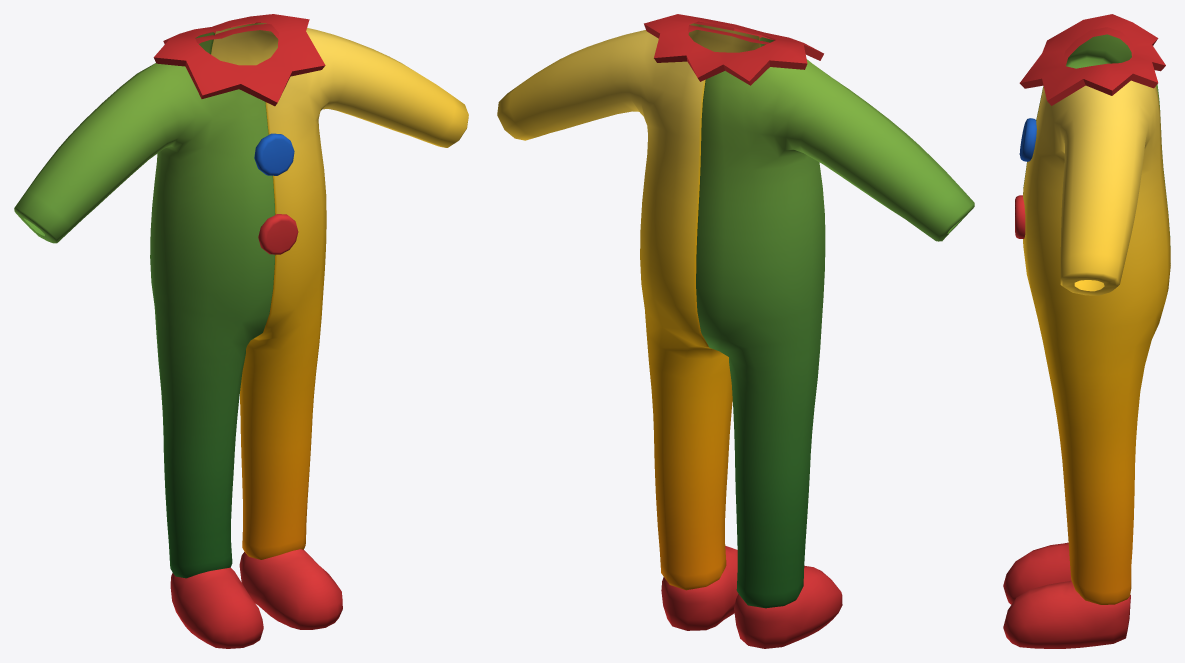
3 views of the same model, side by side, from view 1: azimuth 30°, elevation 25°; view 2: azimuth 150°, elevation 25°; view 3: azimuth 270°, elevation 25° (orthographic). The views are drawn at different scales.
Parts seen in each view (by area): view 1: Costume_10_001; view 2: Costume_10_001; view 3: Costume_10_001.
Boxes of the visible parts, x1,y1,x2,y2 form: Costume_10_001: (14,14,468,648); Costume_10_001: (497,14,974,648); Costume_10_001: (1003,14,1170,648).
Size of the model in its own units: 1.18 by 1.45 by 0.3855.
Materials: 1 (1 with a texture image).
